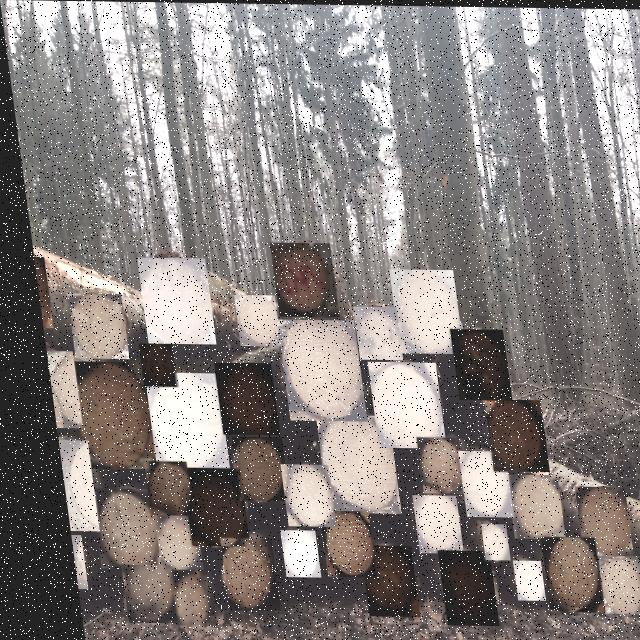wood-log: (57, 361, 144, 469), (268, 319, 356, 421), (134, 372, 217, 472), (304, 414, 387, 513), (358, 361, 435, 448), (130, 257, 207, 344), (382, 268, 455, 353), (77, 488, 147, 569), (169, 467, 235, 546), (263, 242, 331, 316), (204, 362, 268, 435), (526, 536, 588, 611), (474, 398, 537, 471), (422, 549, 482, 625), (441, 328, 501, 399), (206, 538, 265, 610), (345, 544, 403, 616), (561, 485, 619, 555), (59, 293, 120, 359), (493, 474, 551, 538), (219, 436, 276, 501), (305, 510, 361, 576), (446, 450, 500, 516), (46, 440, 85, 531), (267, 464, 322, 526), (105, 565, 161, 624), (399, 494, 449, 553), (583, 554, 630, 613), (404, 436, 452, 493), (37, 351, 71, 428), (140, 515, 188, 569), (131, 461, 179, 515), (345, 306, 393, 359), (226, 294, 274, 346), (153, 572, 194, 626), (265, 529, 305, 577), (129, 343, 168, 387), (497, 559, 529, 599), (27, 257, 44, 328), (466, 523, 495, 559), (56, 535, 72, 589)
